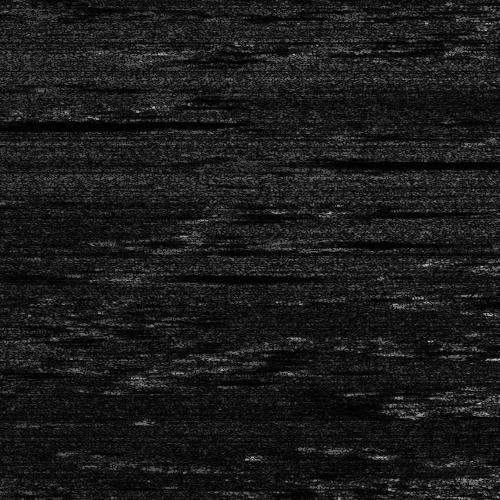rock: (199, 156, 324, 167), (74, 270, 189, 279), (253, 236, 346, 245), (416, 42, 500, 51), (383, 298, 466, 307), (123, 377, 206, 382), (360, 347, 423, 352), (306, 209, 359, 214), (458, 29, 500, 34)
shadow: (262, 156, 469, 167), (132, 270, 276, 279), (300, 236, 443, 245), (425, 298, 500, 307), (392, 347, 500, 352), (333, 209, 431, 214), (165, 377, 248, 382), (463, 42, 500, 51)
